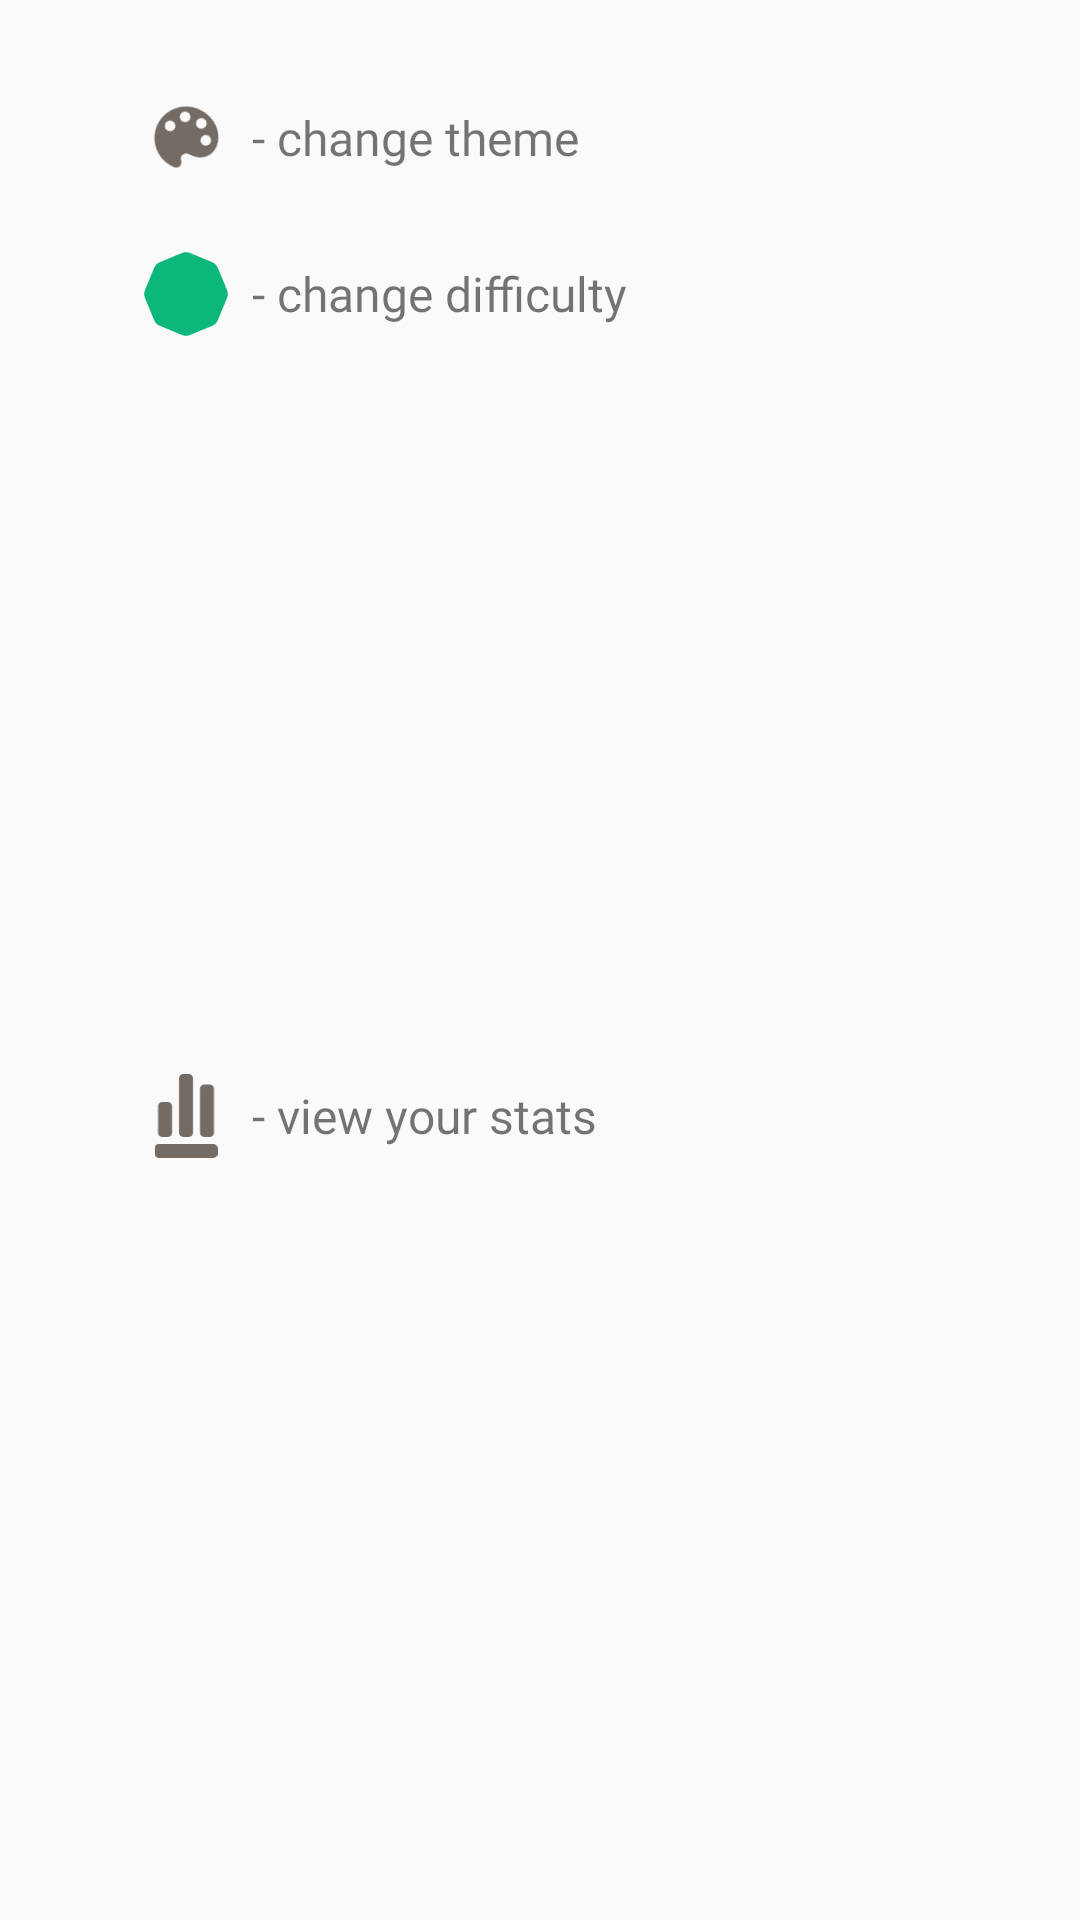

Icons on this 1080*1920 Android screen, each with the point to tap as (x,y):
stats semi rounded: (186,1116)
